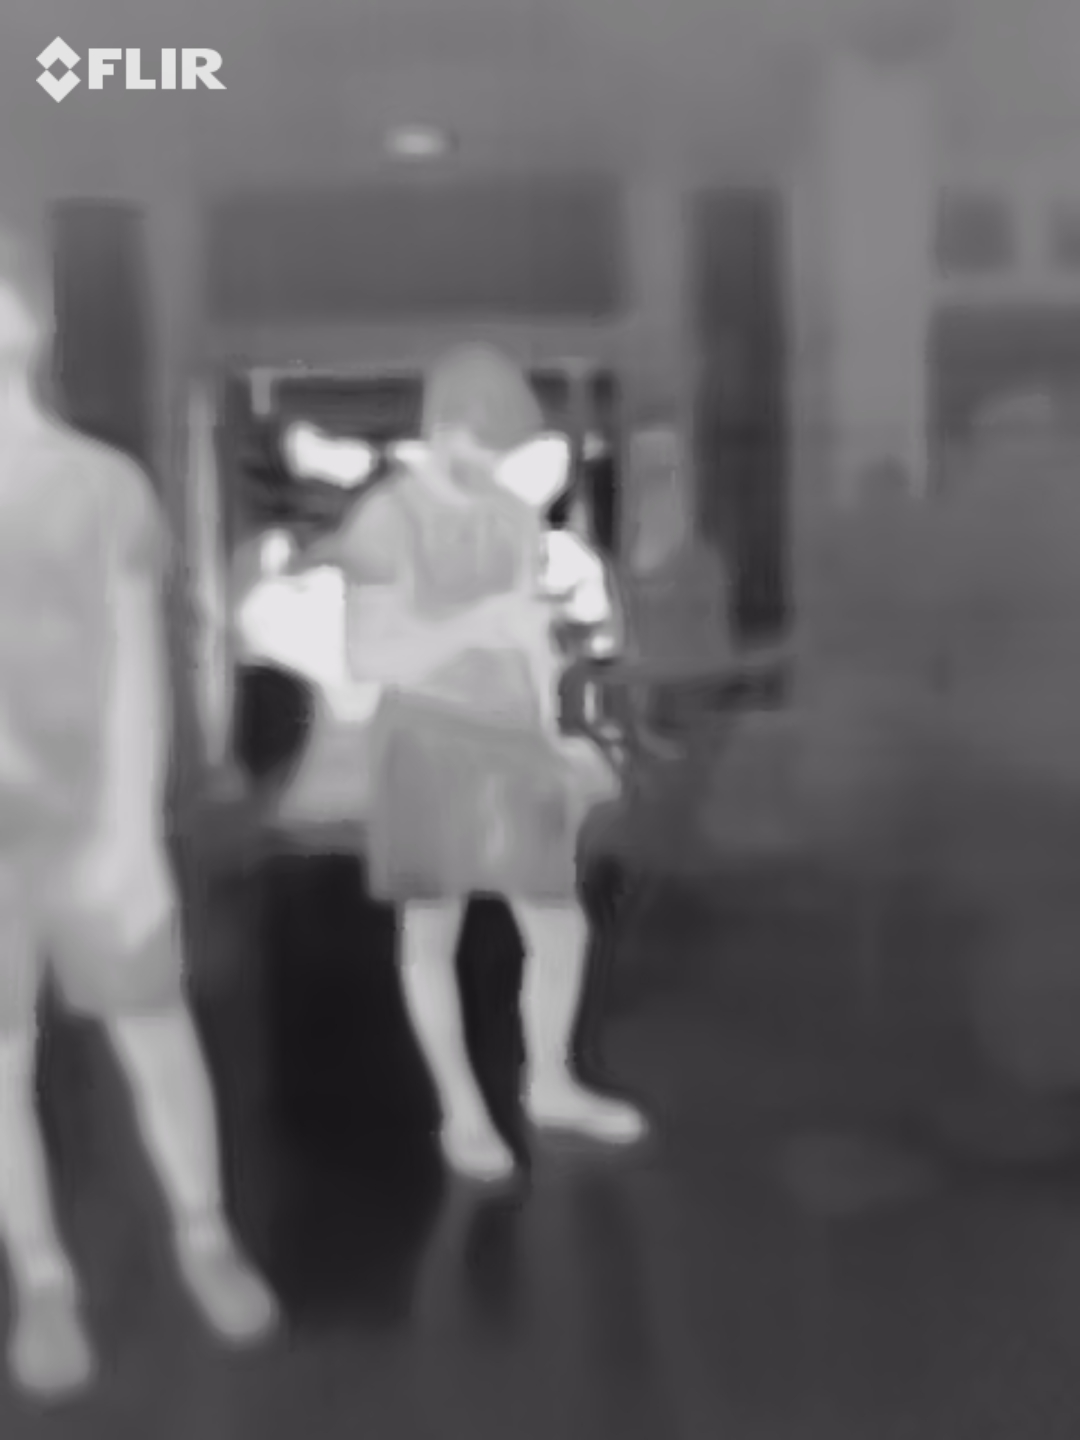head: (406, 333, 541, 489)
